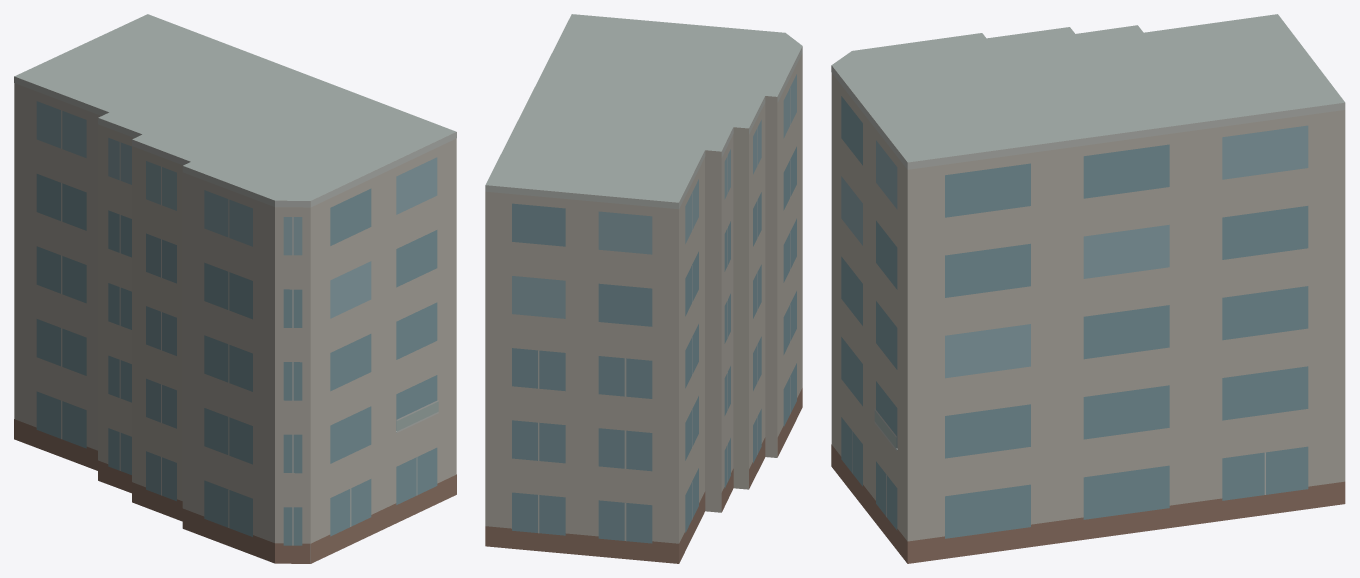
File: survey-upis-32994248.glb
The picture shows the model from 3 angles, left to right: view 1: azimuth 30°, elevation 25°; view 2: azimuth 150°, elevation 25°; view 3: azimuth 270°, elevation 25°; orthographic projection. The views are drawn at different scales.
Parts seen in each view (by area): view 1: survey-upis-32994248.tmp; view 2: survey-upis-32994248.tmp; view 3: survey-upis-32994248.tmp.
Part boxes in pixels (x1,y1,x2,y2): survey-upis-32994248.tmp: (14, 14, 456, 563); survey-upis-32994248.tmp: (485, 14, 802, 563); survey-upis-32994248.tmp: (831, 14, 1345, 563).
Size of the model in its own units: 10.71 by 13.49 by 15.66.
